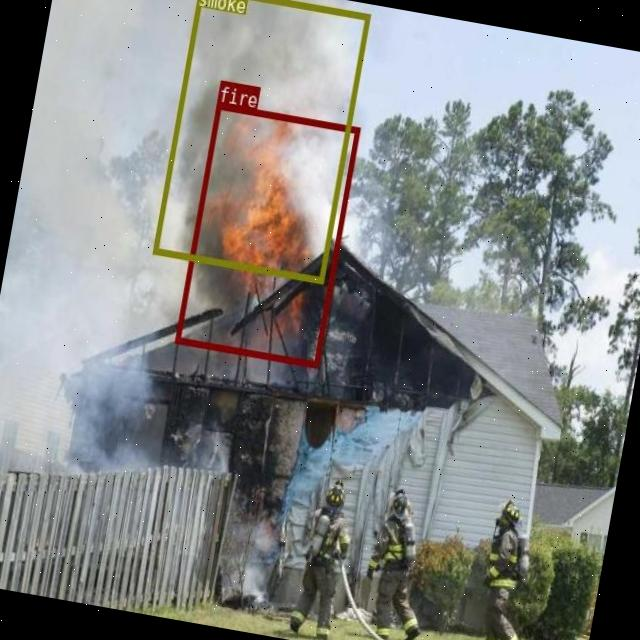fire: (174, 102, 359, 367)
smoke: (152, 0, 369, 283)
